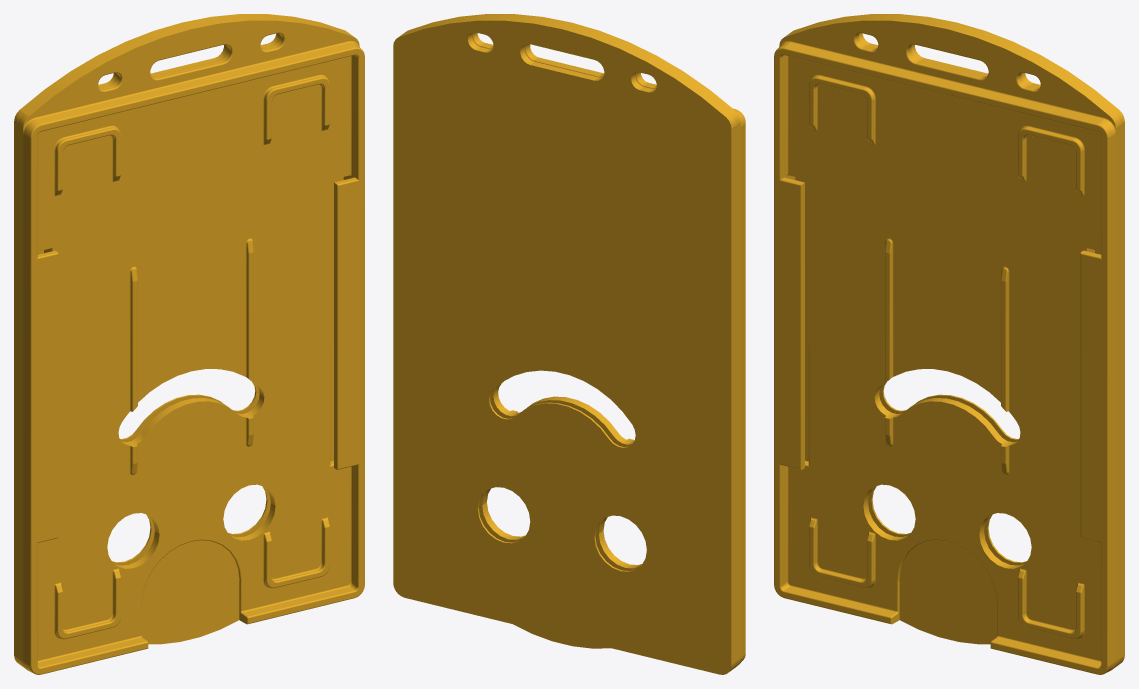
The model's file is mesnap_mango_yellow.glb.
The picture shows the model from 3 angles, left to right: view 1: azimuth 30°, elevation 25°; view 2: azimuth 150°, elevation 25°; view 3: azimuth 330°, elevation 25°; orthographic projection.
Bounding box in the file's own units: 58.01 × 101 × 4.72.
